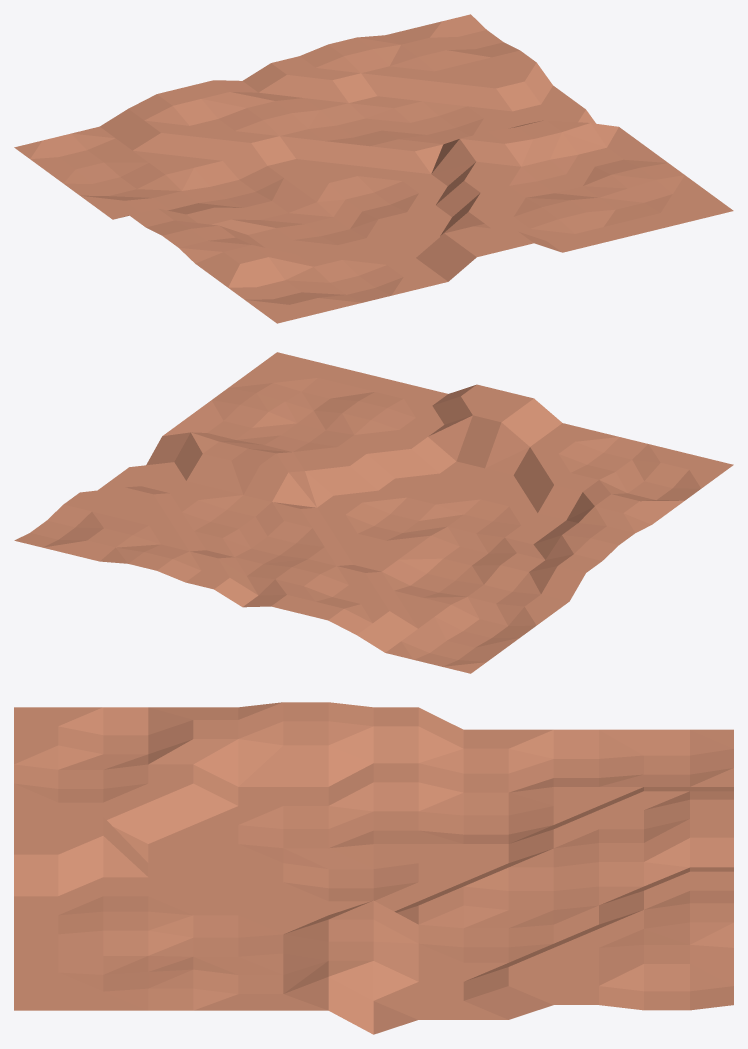
Rendered from terrain.obj.
3 views of the same model, one above another, from view 1: azimuth 30°, elevation 25°; view 2: azimuth 150°, elevation 25°; view 3: azimuth 270°, elevation 25° (orthographic). The views are drawn at different scales.
Visible parts, largest first — view 1: Cube; view 2: Cube; view 3: Cube.
Part boxes in pixels (box(x1,y1,x2,y2)): Cube: box(14, 14, 733, 323); Cube: box(14, 352, 733, 673); Cube: box(14, 702, 733, 1034).
Size of the model in its own units: 12 by 1.04 by 11.97.
